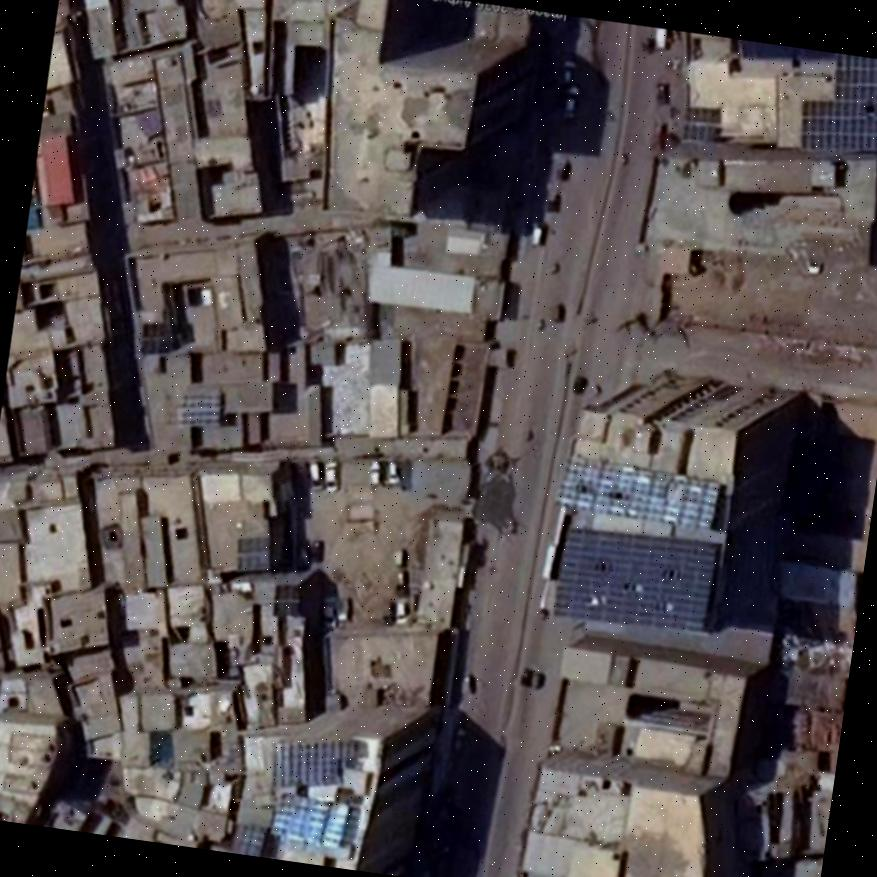Solarpanel: (548, 526, 719, 625), (555, 456, 719, 525), (801, 48, 877, 150), (270, 791, 350, 848), (278, 736, 343, 788), (177, 389, 216, 431), (679, 106, 720, 142), (237, 534, 269, 571), (230, 826, 266, 855)
